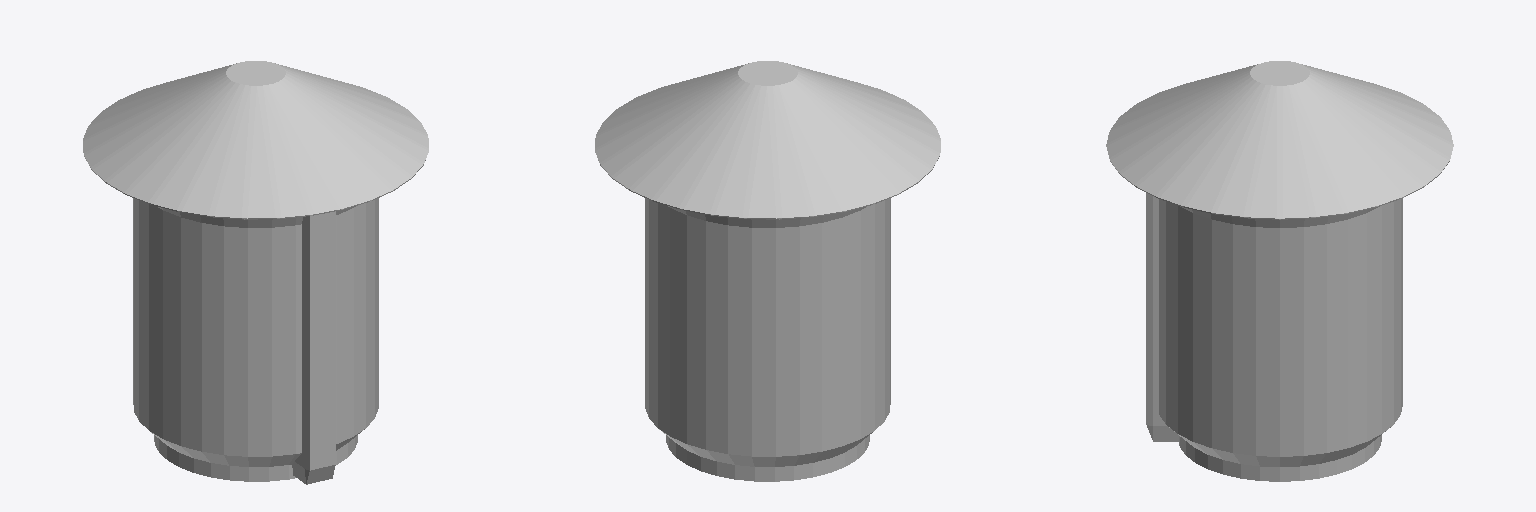
Rendered from lamp.obj.
The picture shows the model from 3 angles: view 1: azimuth 30°, elevation 25°; view 2: azimuth 150°, elevation 25°; view 3: azimuth 270°, elevation 25°; orthographic projection.
Visible parts, largest first — view 1: Cylinder.003, Cone, Cube; view 2: Cylinder.003, Cone; view 3: Cylinder.003, Cone, Cube.
Part boxes in pixels (bbox=[...]): Cylinder.003: bbox=[133, 198, 378, 481]; Cone: bbox=[83, 61, 428, 219]; Cube: bbox=[292, 211, 335, 484]; Cylinder.003: bbox=[645, 198, 890, 481]; Cone: bbox=[595, 61, 940, 219]; Cylinder.003: bbox=[1159, 198, 1402, 481]; Cone: bbox=[1106, 61, 1453, 219]; Cube: bbox=[1146, 193, 1178, 441].
Size of the model in its own units: 2.82 by 3.28 by 2.82.